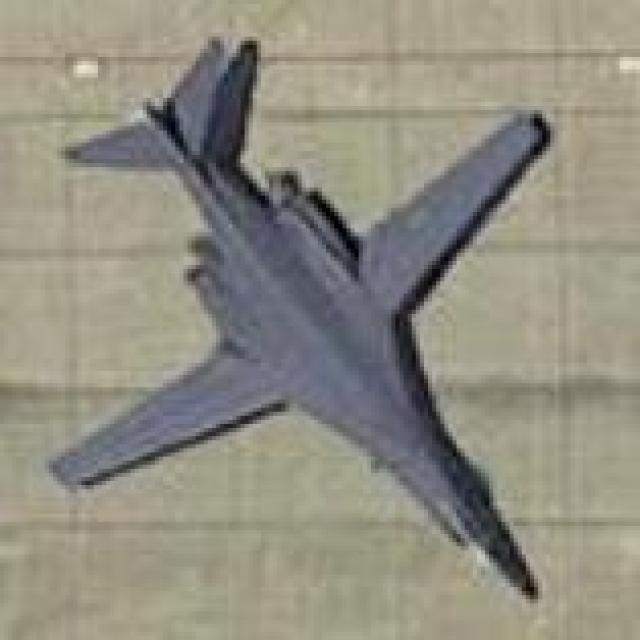B-1_TopDown: (41, 29, 554, 604)
